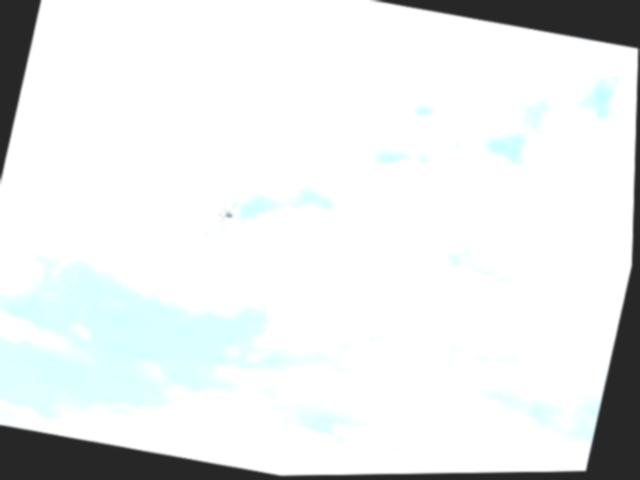uav: (215, 195, 241, 229)
